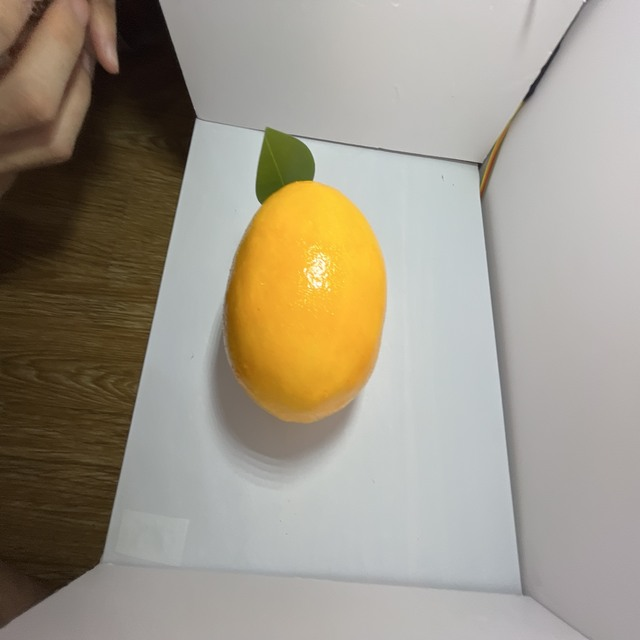Cam vang: (218, 180, 388, 430)
